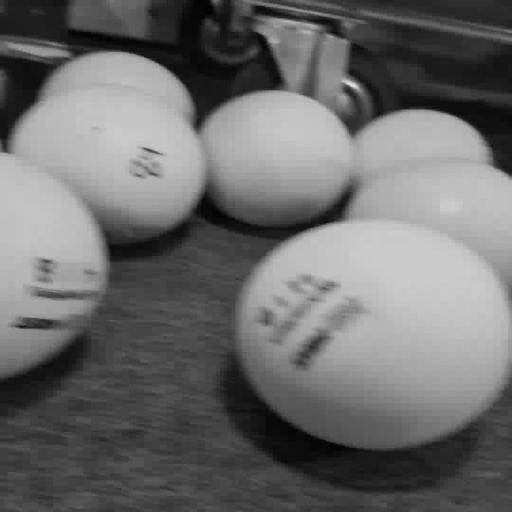fuel: (235, 220, 511, 450), (8, 86, 206, 244), (0, 153, 108, 379), (199, 90, 353, 227), (346, 161, 511, 288), (38, 51, 196, 124), (353, 109, 493, 181)
